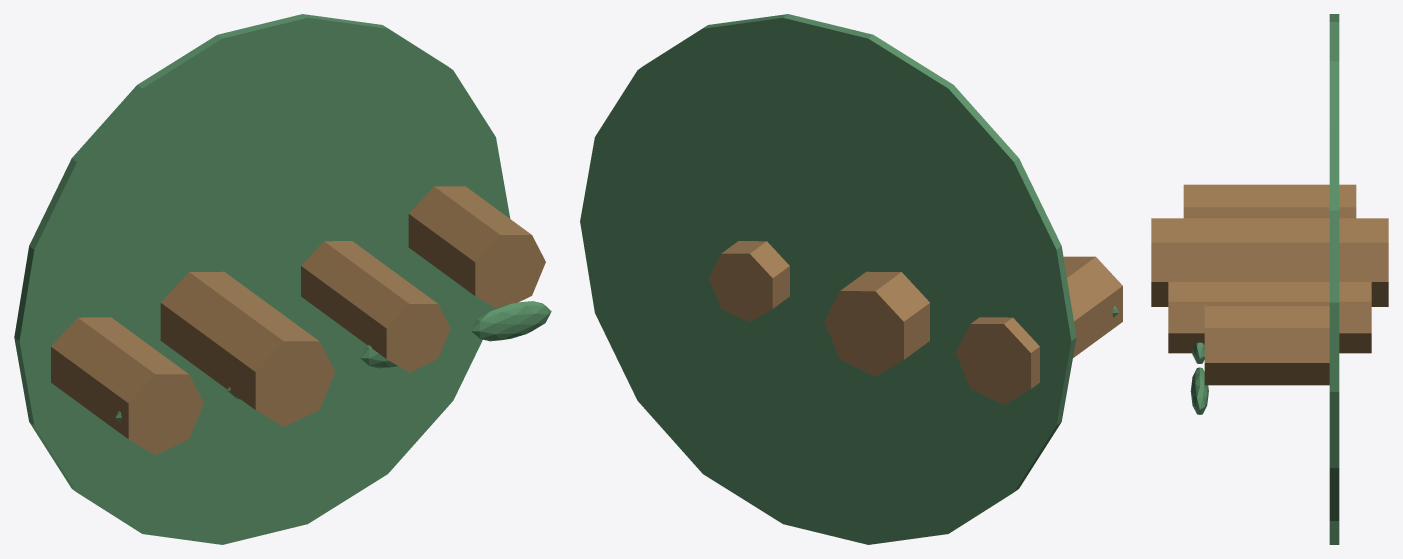
File: 03_ambient_object_cluster.glb
3 renders of one model, left to right at view 1: azimuth 30°, elevation 25°; view 2: azimuth 150°, elevation 25°; view 3: azimuth 270°, elevation 25°, orthographic. The views are drawn at different scales.
Visible parts, largest first — view 1: scatter_base, root_stump_1, root_stump_0, root_stump_2, root_stump_3, moss_3; view 2: scatter_base, root_stump_0, root_stump_1, root_stump_2; view 3: root_stump_1, root_stump_3, root_stump_2, scatter_base, root_stump_0, moss_3.
Part boxes in pixels (<box>): scatter_base: <box>14,14,510,544</box>; root_stump_1: <box>160,271,335,426</box>; root_stump_0: <box>51,317,203,455</box>; root_stump_2: <box>301,241,450,372</box>; root_stump_3: <box>408,186,545,308</box>; moss_3: <box>471,301,551,341</box>; scatter_base: <box>580,14,1076,544</box>; root_stump_0: <box>955,256,1122,404</box>; root_stump_1: <box>824,271,929,376</box>; root_stump_2: <box>708,241,789,322</box>; root_stump_1: <box>1151,218,1388,306</box>; root_stump_3: <box>1204,306,1329,385</box>; root_stump_2: <box>1168,282,1371,353</box>; scatter_base: <box>1329,14,1339,544</box>; root_stump_0: <box>1183,184,1356,218</box>; moss_3: <box>1190,367,1208,414</box>.
Bounding box in the file's own units: 1.9 × 1.87 × 0.8472.
